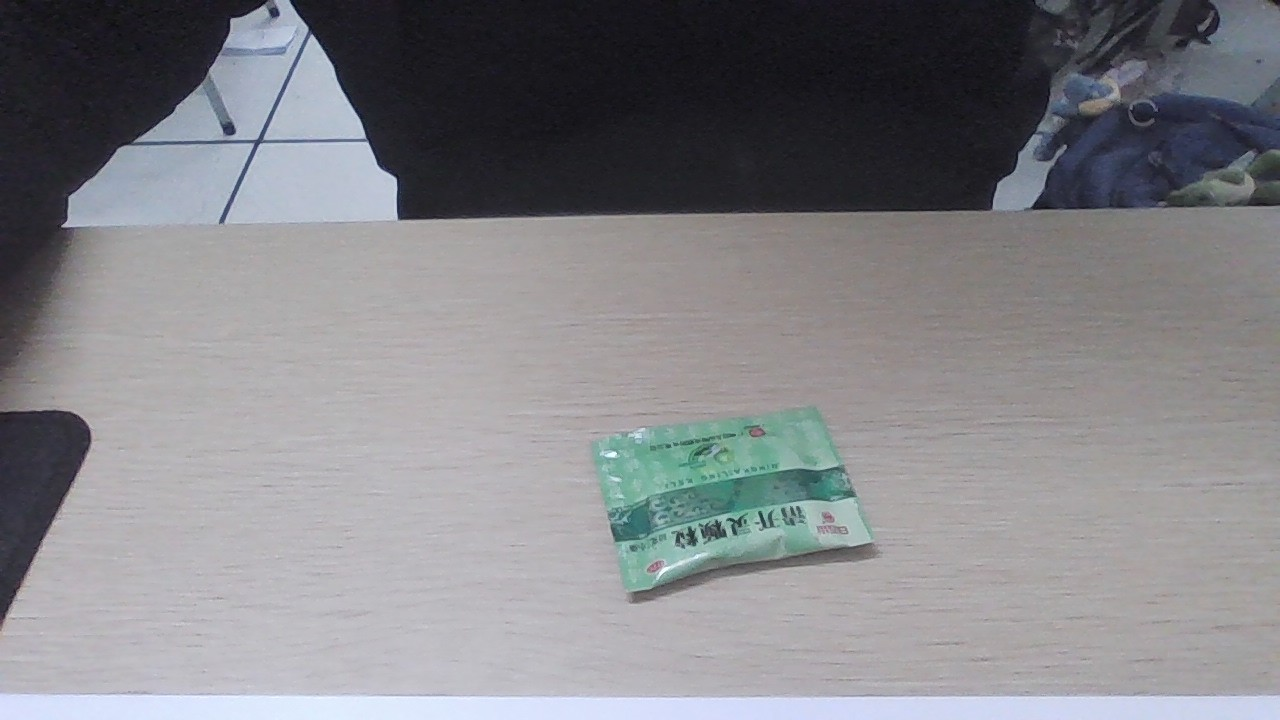YH-green medicine: (586, 406, 851, 575)
